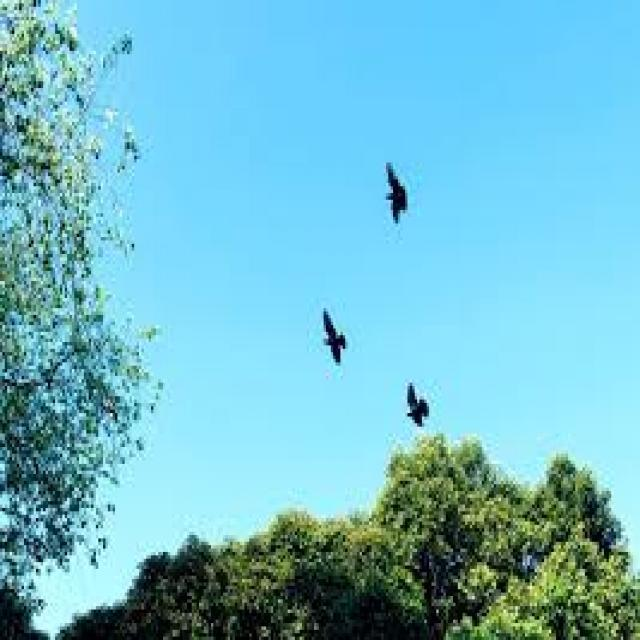bird: (290, 270, 369, 394), (366, 154, 438, 266), (388, 359, 448, 467)
